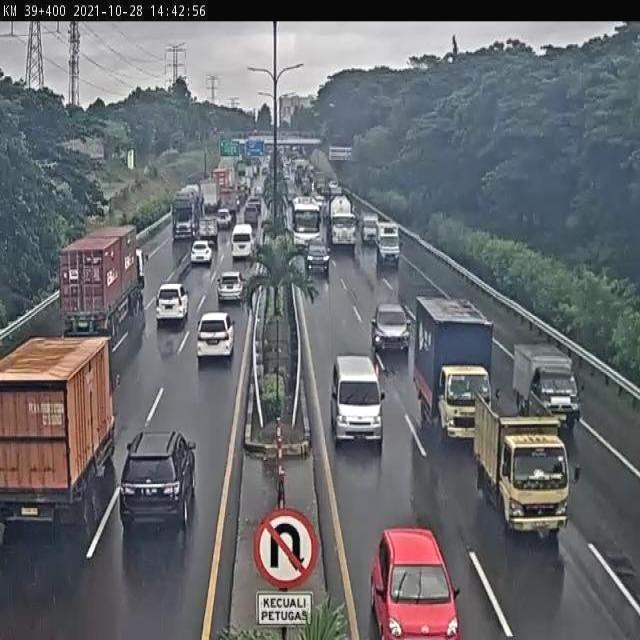Car: (370, 526, 460, 637), (118, 429, 196, 532), (330, 353, 383, 447), (371, 302, 411, 354), (196, 311, 236, 360), (152, 277, 192, 325), (375, 221, 401, 268), (305, 240, 331, 277), (216, 270, 245, 303), (231, 224, 255, 260), (190, 240, 214, 266), (244, 196, 262, 226), (199, 216, 219, 243), (361, 214, 378, 245), (216, 208, 232, 230), (260, 213, 273, 237), (237, 177, 250, 199), (254, 182, 264, 196)
Truck: (0, 334, 118, 550), (472, 391, 571, 535), (58, 225, 142, 355), (412, 297, 492, 433), (513, 342, 579, 429), (286, 199, 321, 253), (327, 195, 358, 254), (170, 186, 198, 242), (201, 180, 221, 217), (219, 185, 237, 214)
